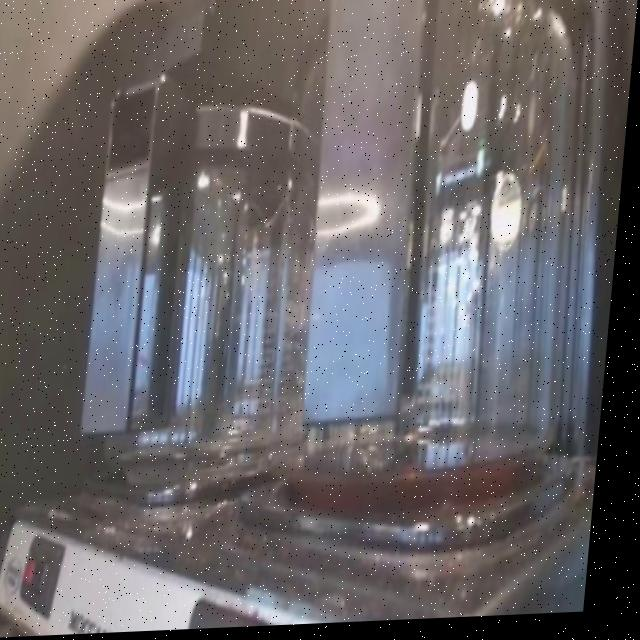nocoffee: (275, 53, 594, 547), (67, 126, 304, 525)
